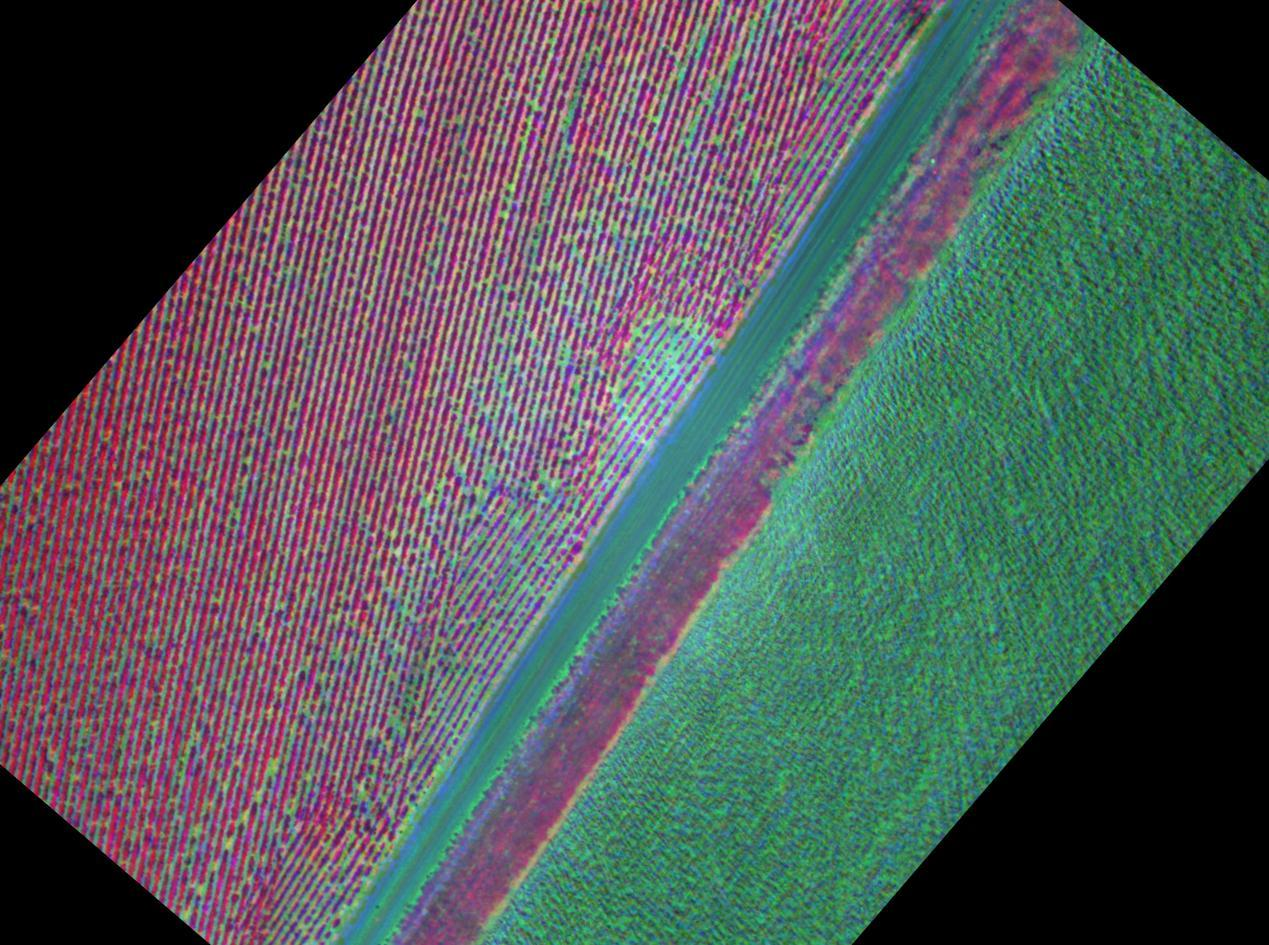dc: (560, 346, 568, 355), (541, 473, 547, 482)
